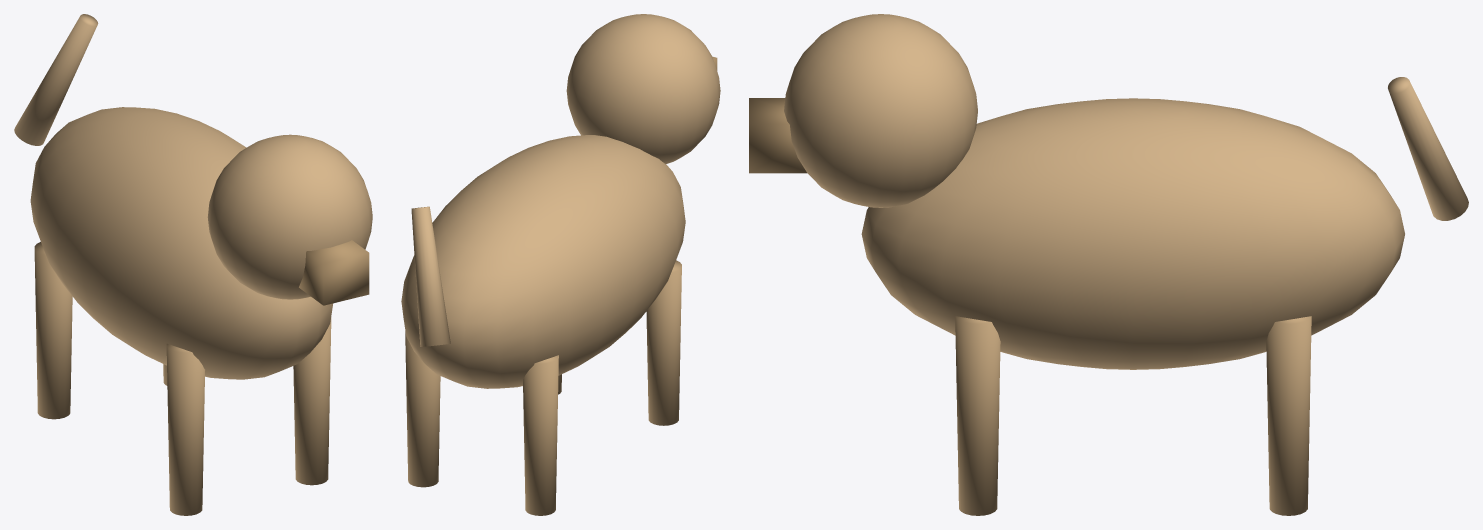
The model's file is dog.glb.
3 renders of one model, left to right at view 1: azimuth 30°, elevation 25°; view 2: azimuth 150°, elevation 25°; view 3: azimuth 270°, elevation 25°, orthographic. The views are drawn at different scales.
Visible parts, largest first — view 1: body, head, leg_-0.22_0.4, leg_-0.22_-0.4, leg_0.22_0.4, tail, snout; view 2: body, head, leg_-0.22_-0.4, leg_-0.22_0.4, leg_0.22_-0.4, tail; view 3: body, head, leg_0.22_-0.4, leg_0.22_0.4, tail, snout.
Boxes of the visible parts, <box> form: body: <box>30,107,333,379</box>; head: <box>207,134,372,299</box>; leg_-0.22_0.4: <box>166,343,204,515</box>; leg_-0.22_-0.4: <box>34,242,72,419</box>; leg_0.22_0.4: <box>293,317,331,485</box>; tail: <box>14,14,98,145</box>; snout: <box>299,240,369,305</box>; body: <box>401,135,685,388</box>; head: <box>566,14,720,163</box>; leg_-0.22_-0.4: <box>523,355,558,515</box>; leg_-0.22_0.4: <box>646,260,681,425</box>; leg_0.22_-0.4: <box>405,331,440,487</box>; tail: <box>411,206,450,346</box>; body: <box>861,98,1404,369</box>; head: <box>784,14,977,207</box>; leg_0.22_-0.4: <box>1266,316,1311,515</box>; leg_0.22_0.4: <box>955,316,1000,515</box>; tail: <box>1388,77,1468,220</box>; snout: <box>749,98,806,173</box>.
Bounding box in the file's own units: 0.7 × 1.28 × 1.85.
